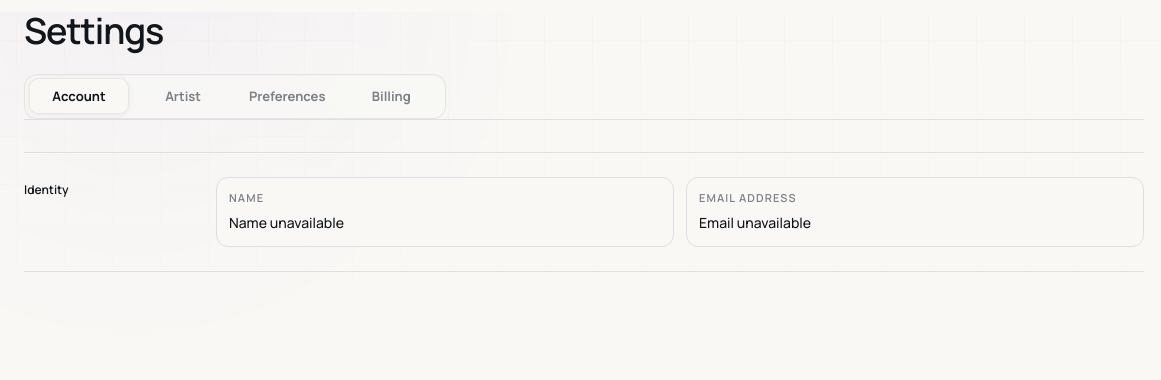
Test: SettingsScreen › labels an entitled workspace without billing metadata as active access
Click the tab "Billing" at [391, 96], box [341,78,442,114]
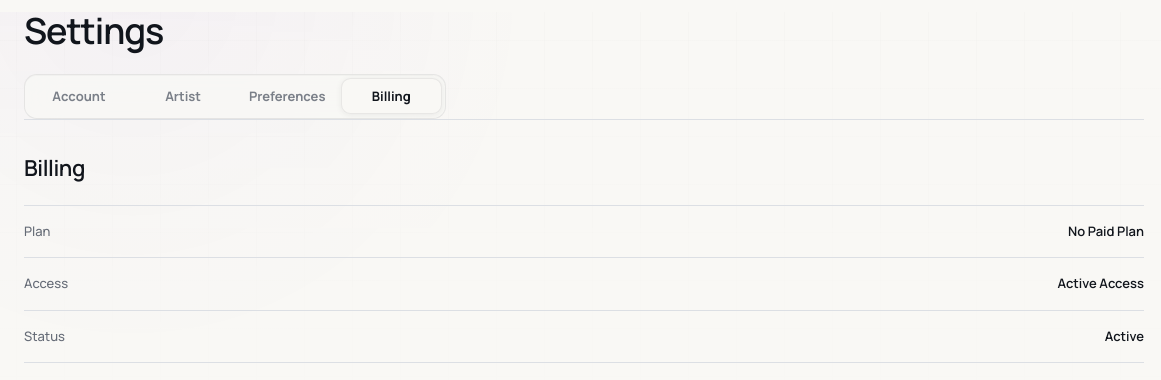
Result: the text "No paid plan" is shown at [1068,222,1144,241]
Result: the text "Active access" is shown at [1057,274,1144,294]
